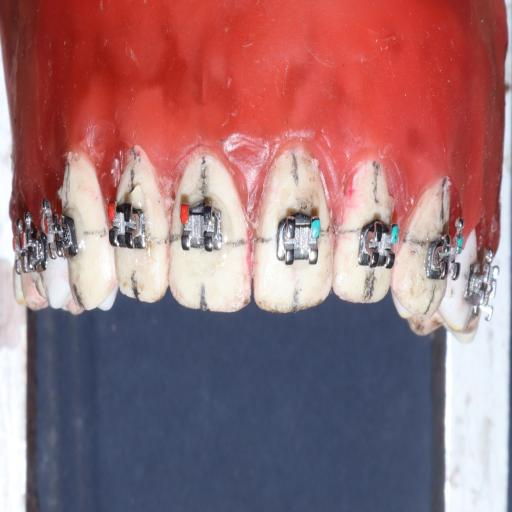correct_brace: (276, 210, 324, 268)
incorrect_brace: (178, 197, 227, 257)
